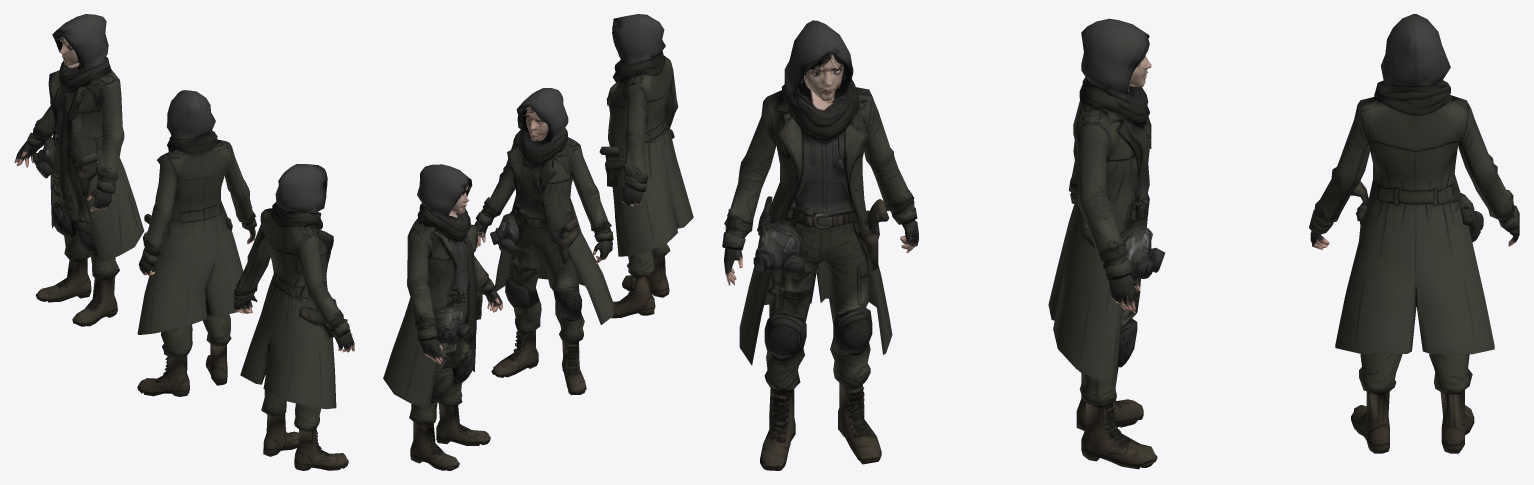
The picture shows the model from 3 angles, left to right: view 1: azimuth 30°, elevation 25°; view 2: azimuth 150°, elevation 25°; view 3: azimuth 270°, elevation 25°; orthographic projection. The views are drawn at different scales.
Parts seen in each view (by area): view 1: tripo_node_c1a271e5-1496-4e14-88bd-a984234b4115; view 2: tripo_node_c1a271e5-1496-4e14-88bd-a984234b4115; view 3: tripo_node_c1a271e5-1496-4e14-88bd-a984234b4115.
Boxes of the visible parts, x1=… form: tripo_node_c1a271e5-1496-4e14-88bd-a984234b4115: x1=14, y1=14, x2=354, y2=470; tripo_node_c1a271e5-1496-4e14-88bd-a984234b4115: x1=383, y1=14, x2=693, y2=470; tripo_node_c1a271e5-1496-4e14-88bd-a984234b4115: x1=722, y1=14, x2=1519, y2=470.
Size of the model in its own units: 0.2715 by 0.5879 by 0.998.
Materials: 1 (1 with a texture image).
